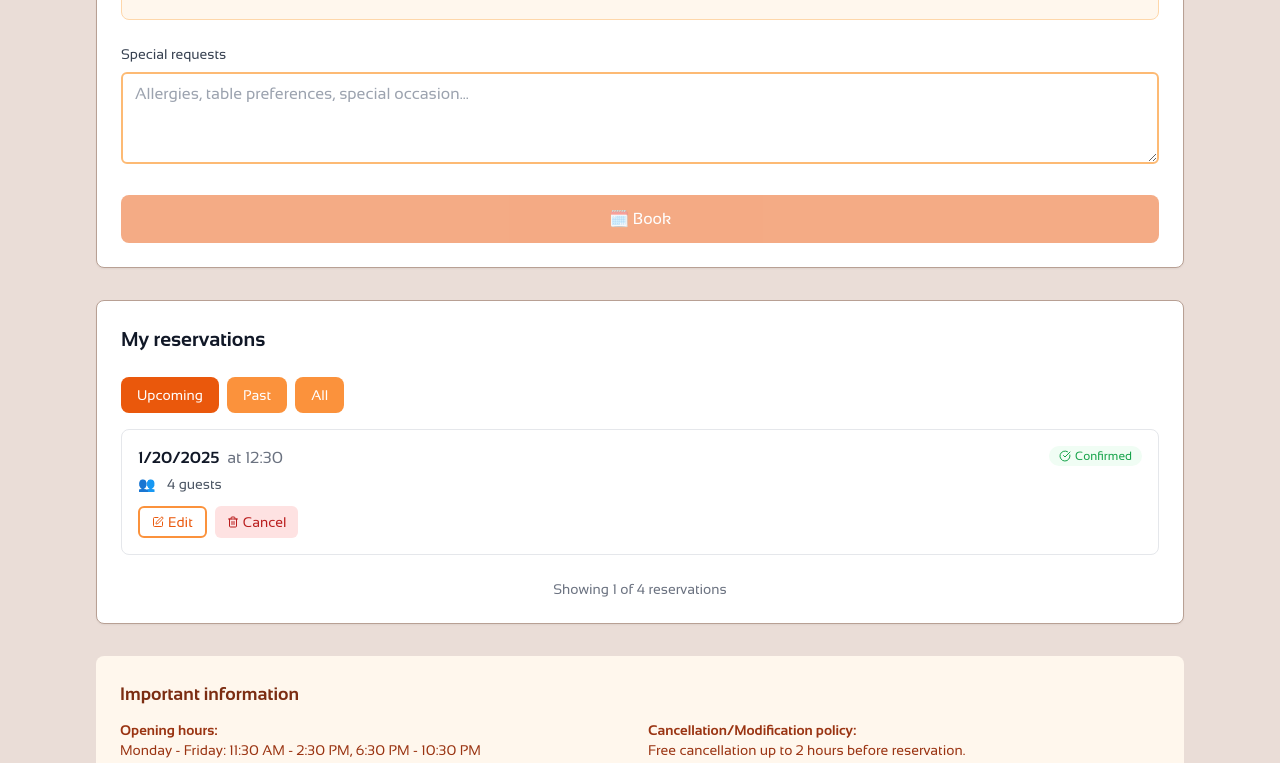
Test: Reservations Component › Reservation Filtering › should filter to past reservations when Past clicked
(page scrolled)
Click the button "Past" at coordinates (257, 395), box [227, 377, 287, 413]
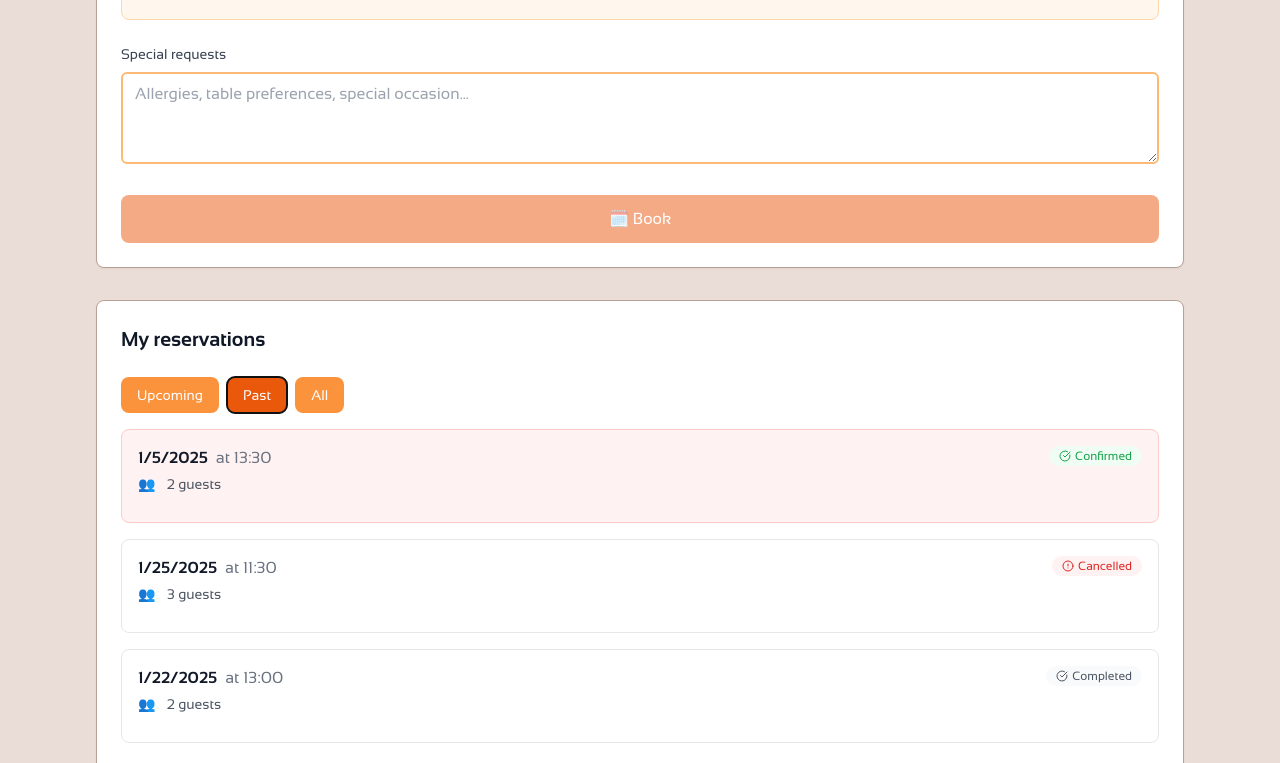
Check: the text "1/5/2025" is shown, box [138, 446, 208, 470]
Check: the text "1/25/2025" is shown, box [138, 556, 217, 580]
Check: the text "1/22/2025" is shown, box [138, 666, 217, 690]
